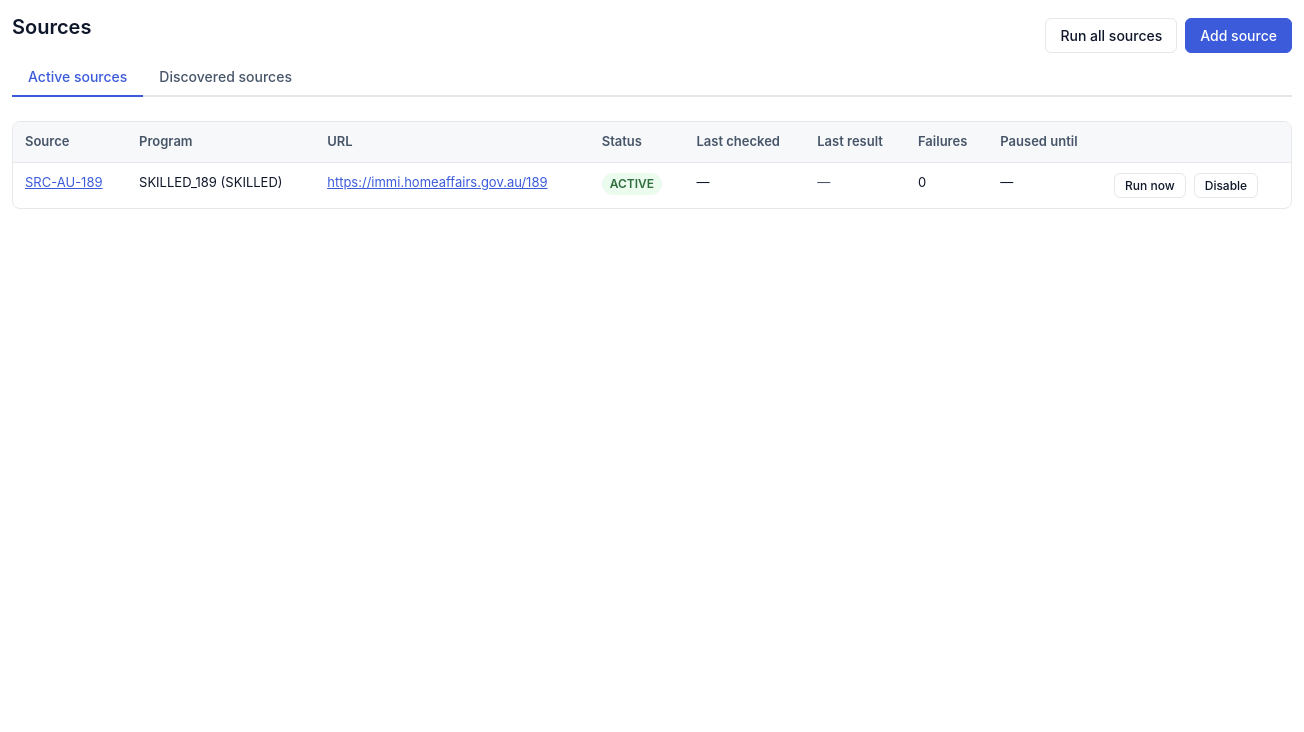
Scenario: 409 responses tell busy and refused apart › keeps the ordinary busy message for a lock 409
The image size is (1304, 732).
Expected: the link "SRC-AU-189" is shown, [25, 174, 102, 190]
Click the button "Run now" at [1150, 185], box [1114, 172, 1186, 198]
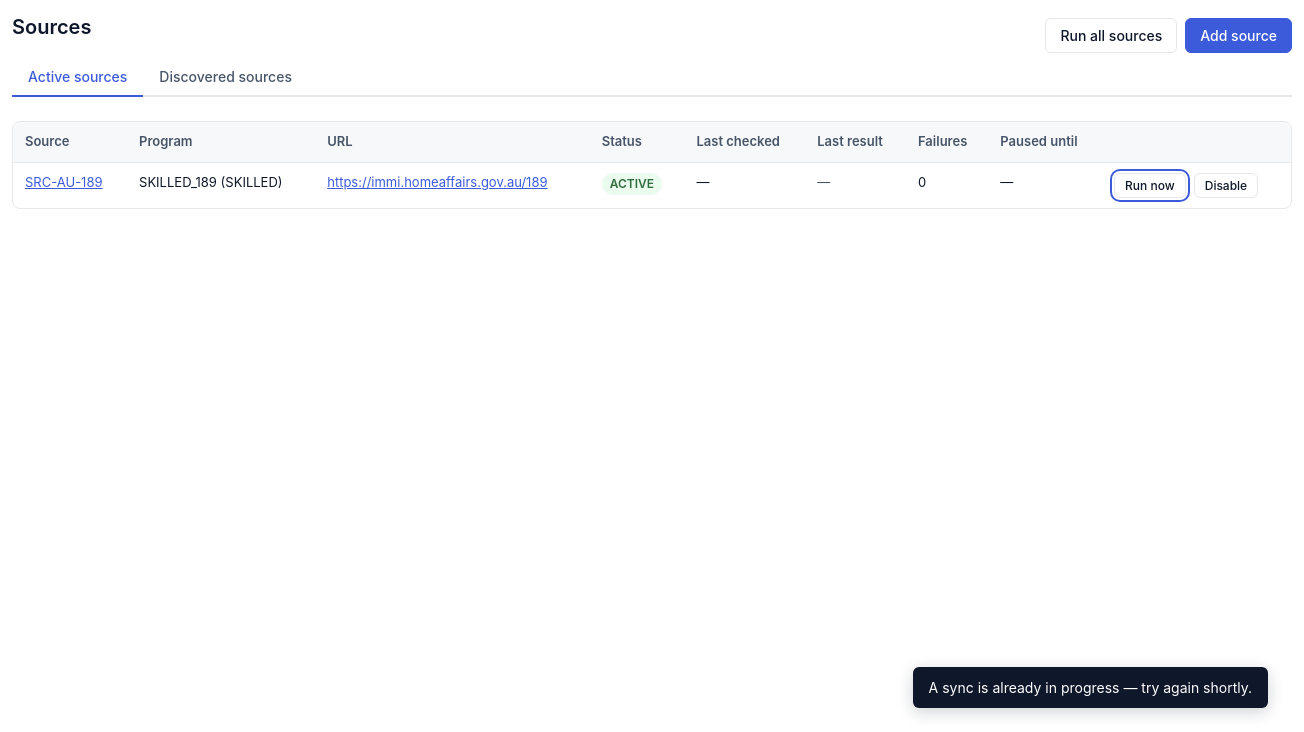
Now the message shows "already in progress", box [929, 679, 1252, 696]
